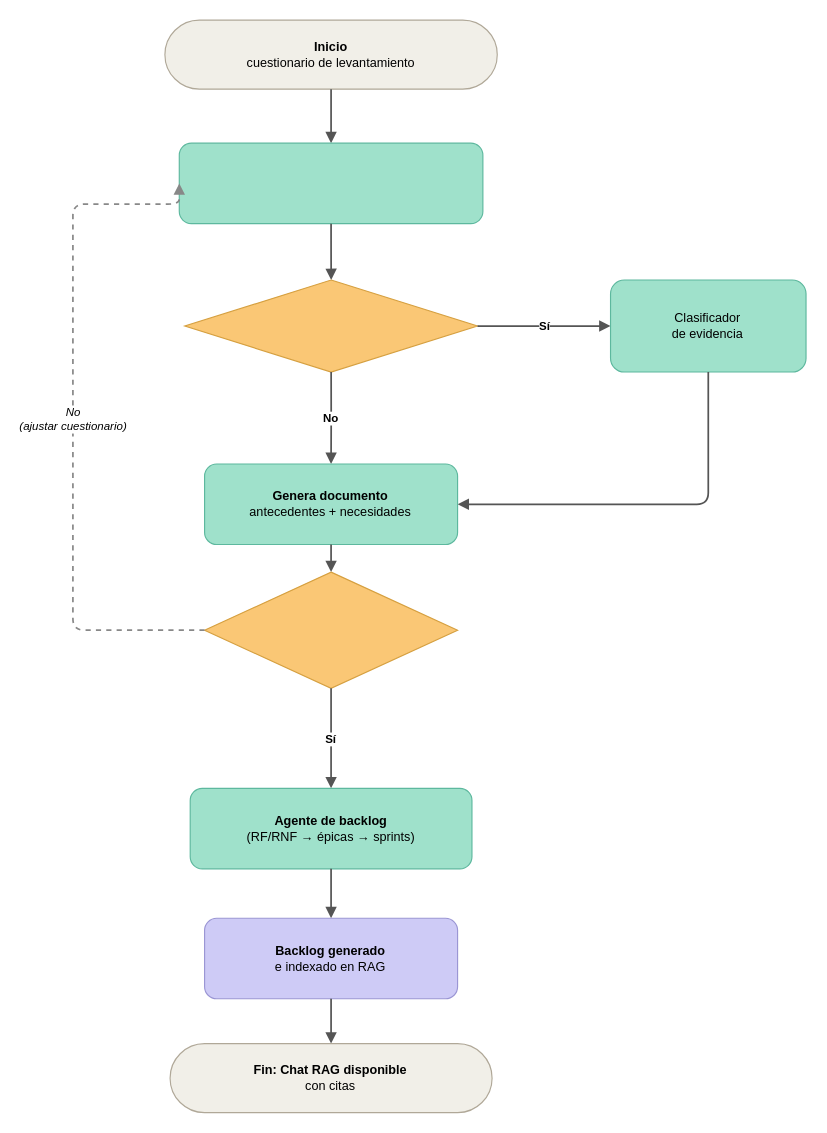
The diagram is 827 pixels wide and 1133 high, and some of its shapes have lost their labels. The centre of each missing label's shape, as x and y in pixels:
Agente de levantamiento (extrae FODA + PESTEL): (330,183)
¿Hay evidencia de apoyo?: (330,325)
¿RF/RNF suficientes?: (330,629)
